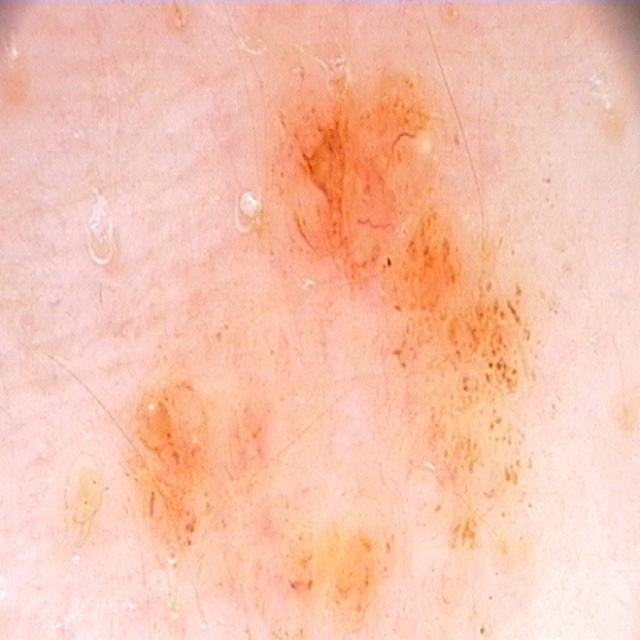Melanoma: (76, 66, 555, 640)
